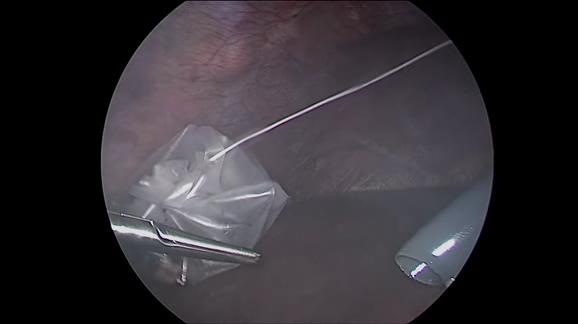Grasper: (123, 207, 267, 288)
SpecimenBag: (114, 135, 305, 282)
